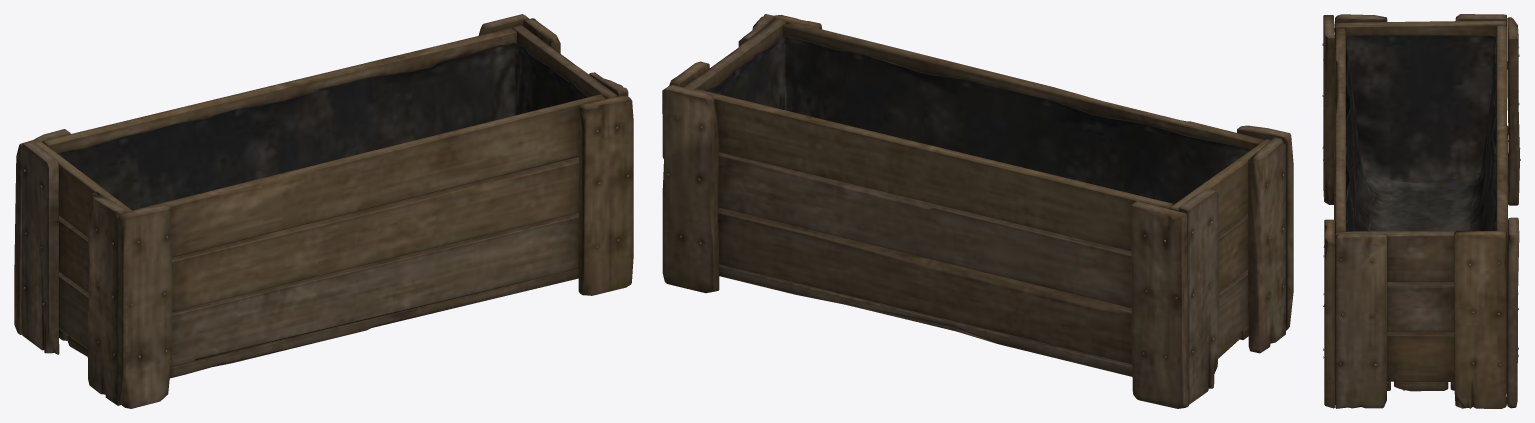
The model's file is planter-box-02.d7ee3b50.glb.
3 renders of one model, left to right at view 1: azimuth 30°, elevation 25°; view 2: azimuth 150°, elevation 25°; view 3: azimuth 270°, elevation 25°, orthographic. The views are drawn at different scales.
Parts seen in each view (by area): view 1: model; view 2: model; view 3: model.
Part boxes in pixels (box(x1,y1,x2,y2)): model: box(14, 14, 633, 408); model: box(662, 14, 1293, 408); model: box(1322, 14, 1520, 408).
Size of the model in its own units: 1.25 by 0.4534 by 0.4672.
Materials: 1 (1 with a texture image).
